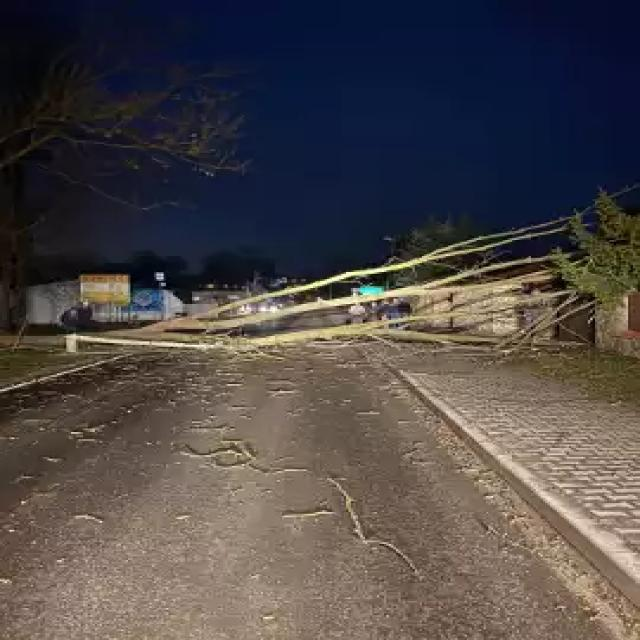fallen_tree: (0, 308, 592, 354)
